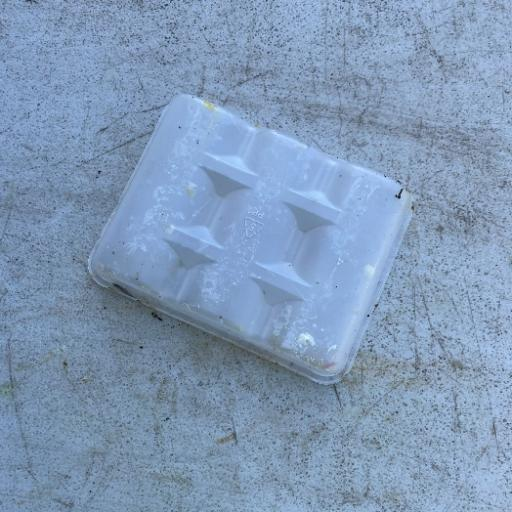Plastic: (85, 92, 415, 387)
